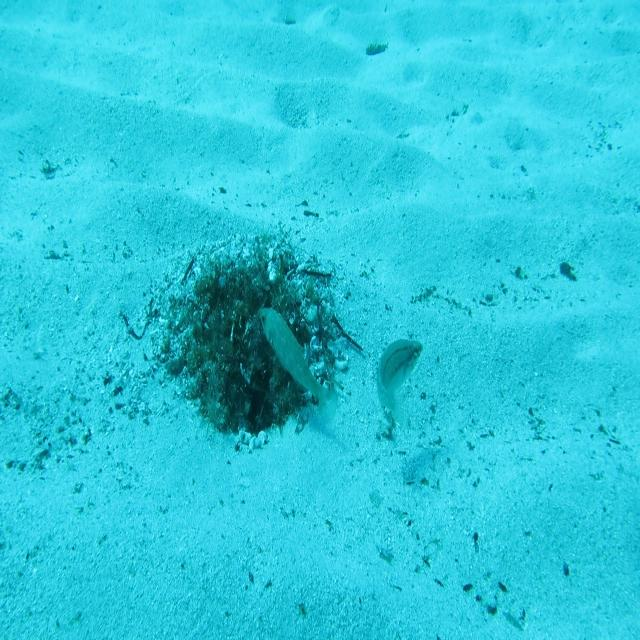BN: (258, 300, 340, 426)
core_nest: (221, 282, 271, 316)
female: (375, 336, 426, 434)
nest: (141, 221, 355, 465)
vegetation: (364, 40, 389, 60)
